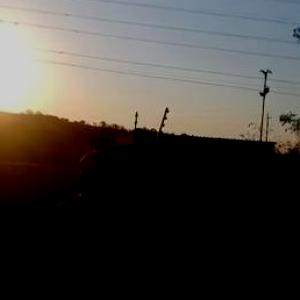follow: (43, 139, 134, 299)
